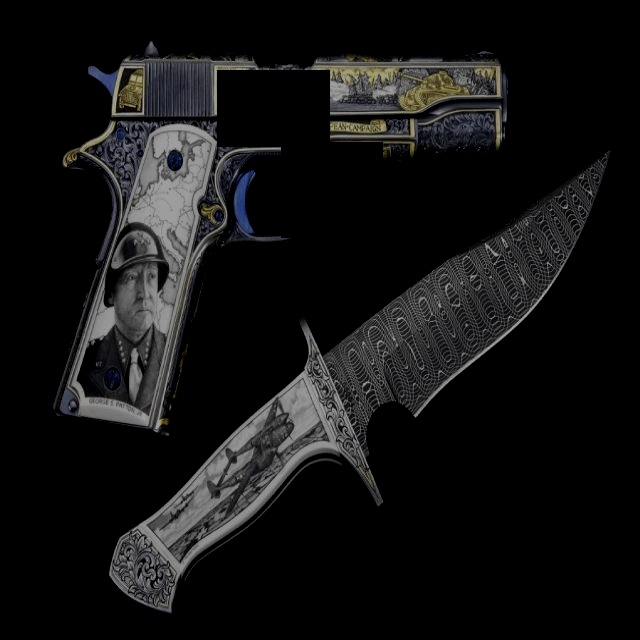gun: (108, 136, 623, 607)
